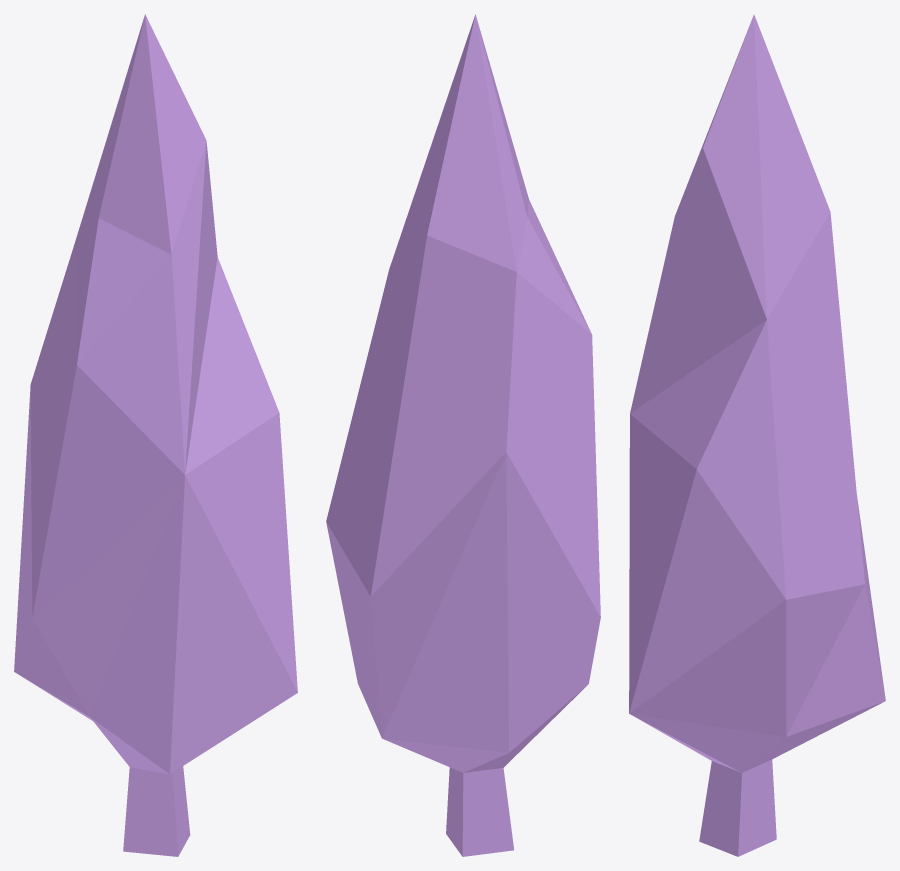
File: tree03.fbx
3 views of the same model, side by side, from view 1: azimuth 30°, elevation 25°; view 2: azimuth 150°, elevation 25°; view 3: azimuth 270°, elevation 25° (orthographic).
Visible parts, largest first — view 1: treeW3_01; view 2: treeW3_01; view 3: treeW3_01.
Part boxes in pixels (bbox=[...]): treeW3_01: bbox=[14, 14, 297, 856]; treeW3_01: bbox=[326, 14, 600, 856]; treeW3_01: bbox=[629, 14, 885, 856].
Size of the model in its own units: 2.77 by 8.73 by 2.46.
